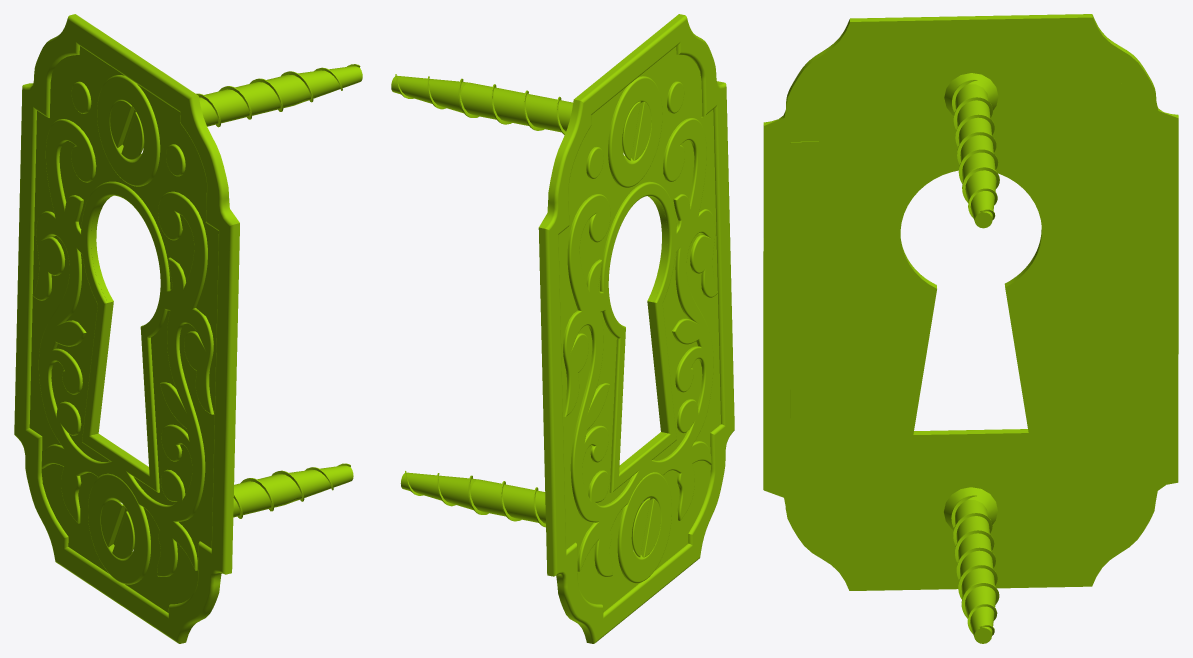
Rendered from Lock.fbx.
3 renders of one model, left to right at view 1: azimuth 30°, elevation 25°; view 2: azimuth 150°, elevation 25°; view 3: azimuth 270°, elevation 25°, orthographic. The views are drawn at different scales.
Visible parts, largest first — view 1: Lock; view 2: Lock; view 3: Lock.
Part boxes in pixels (x1,y1,x2,y2): Lock: (14,14,362,643); Lock: (391,14,734,643); Lock: (763,14,1178,643).
Bounding box in the file's own units: 7.21 × 14.75 × 9.64.
